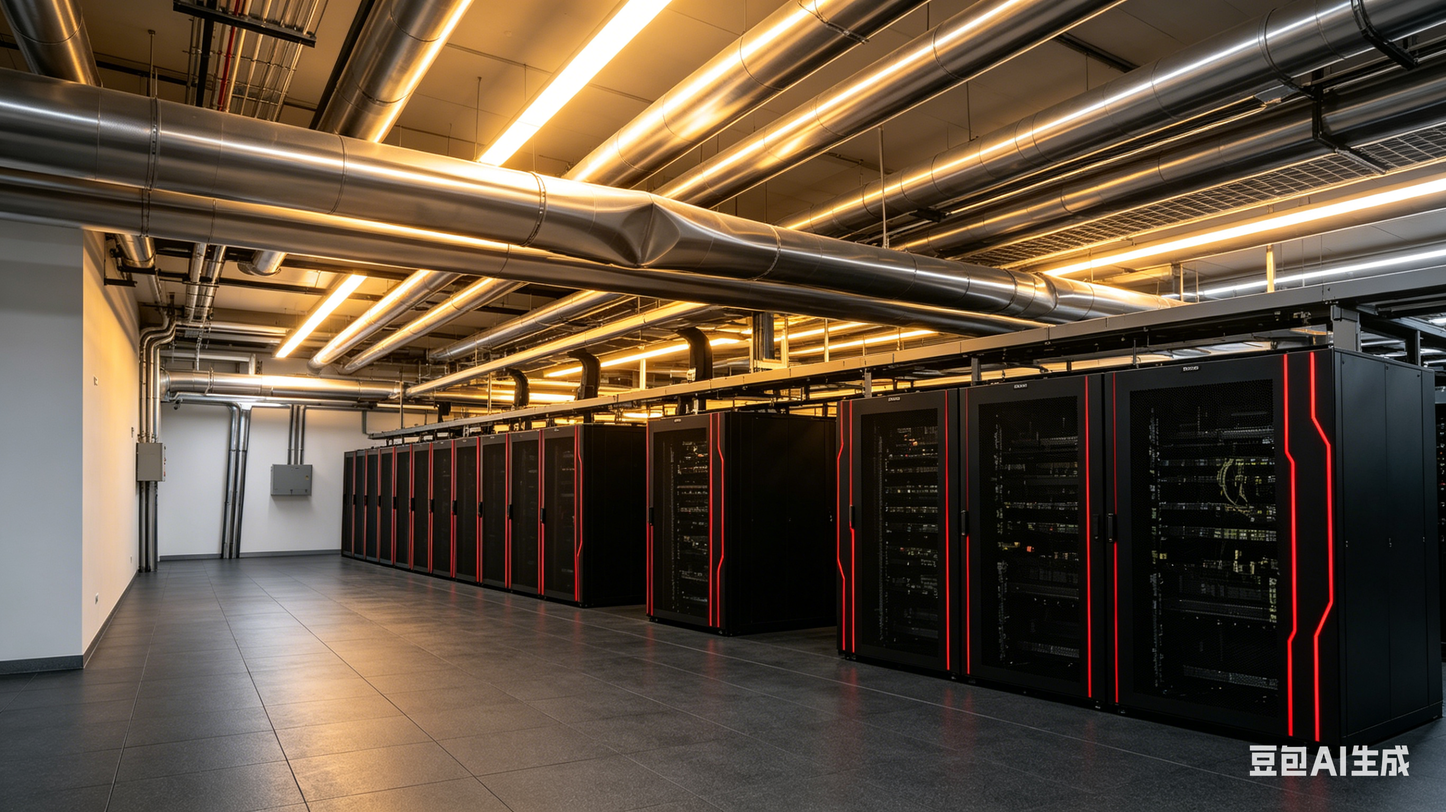Leakage: (594, 200, 690, 272)
